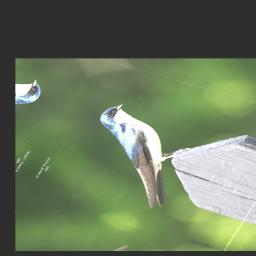Swallow: (59, 101, 213, 211)
